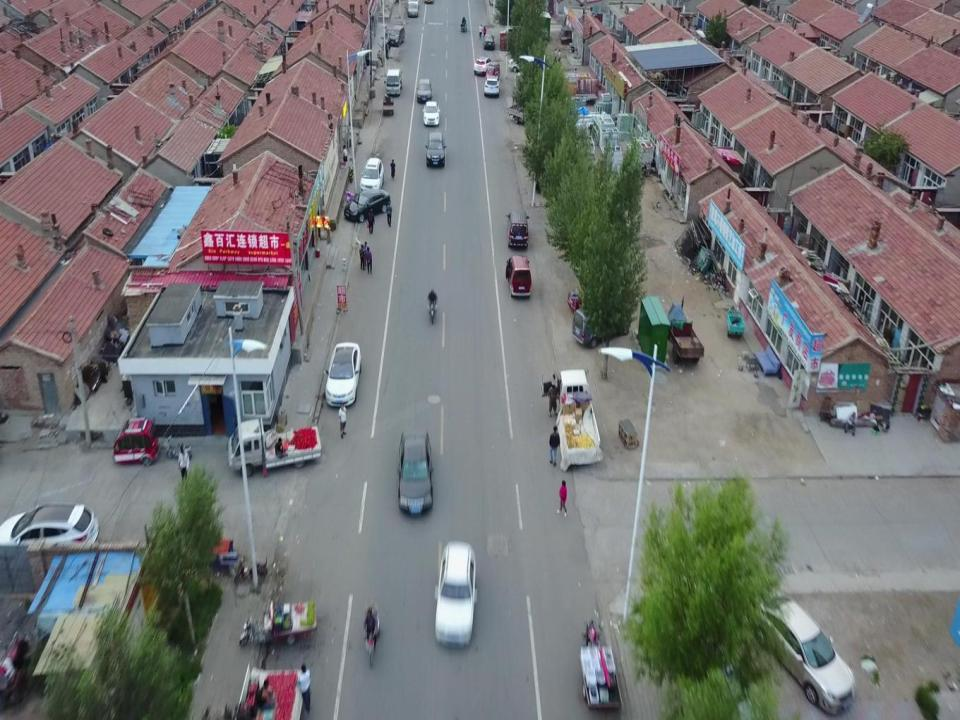car: (756, 591, 856, 714), (0, 502, 102, 554), (434, 542, 477, 648), (398, 428, 435, 516), (324, 341, 361, 410), (343, 188, 392, 221), (505, 212, 529, 249), (360, 157, 384, 191), (426, 131, 446, 168), (423, 101, 440, 127), (483, 73, 500, 97), (417, 77, 432, 103), (474, 56, 491, 76), (389, 26, 405, 46), (408, 2, 419, 19), (483, 34, 495, 48)
truck: (541, 369, 601, 471), (226, 419, 326, 475), (385, 68, 403, 95)
van: (570, 308, 630, 348), (504, 254, 532, 298)
